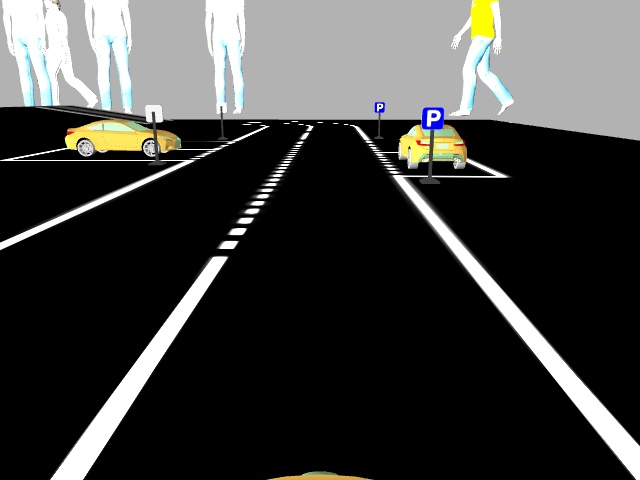Parking: (420, 106, 444, 130), (373, 101, 385, 112)
